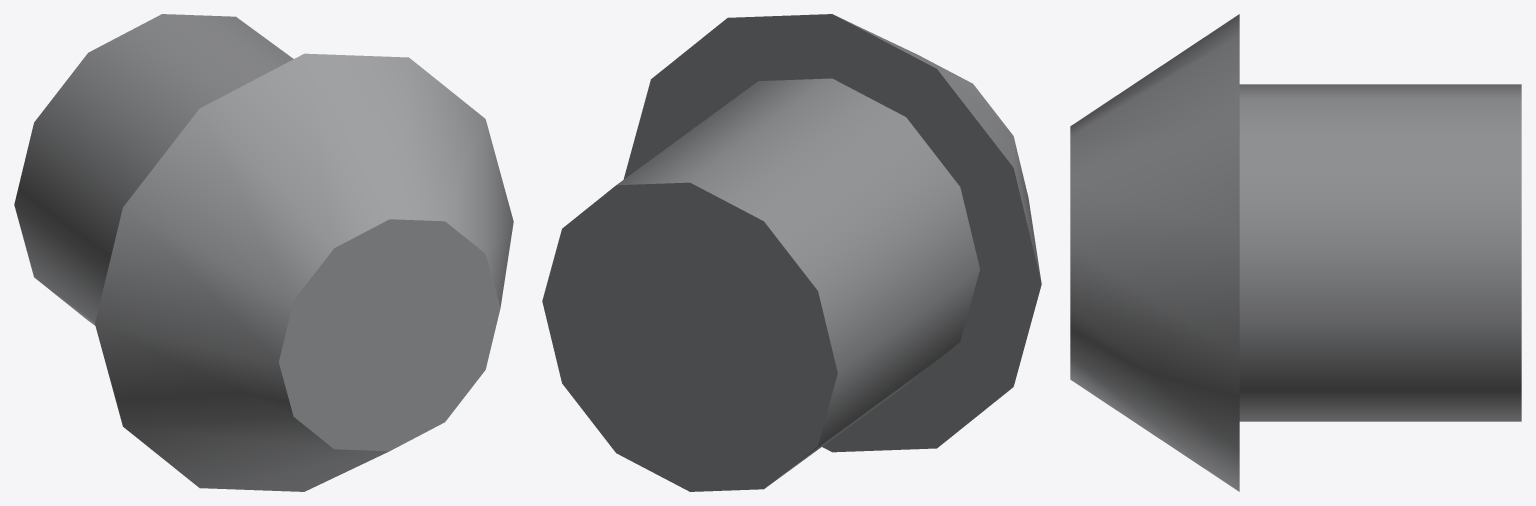
3 renders of one model, left to right at view 1: azimuth 30°, elevation 25°; view 2: azimuth 150°, elevation 25°; view 3: azimuth 270°, elevation 25°, orthographic.
Bounding box in the file's own units: 0.17 × 0.17 × 0.16.
